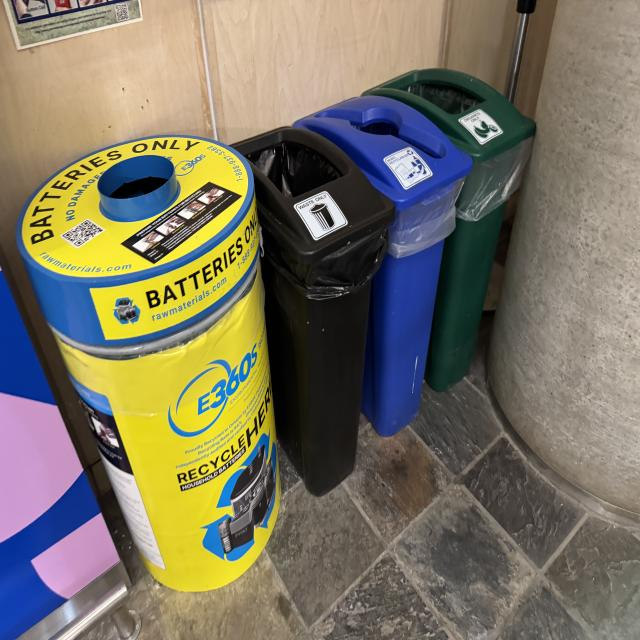Dustbin: (225, 69, 535, 495)
